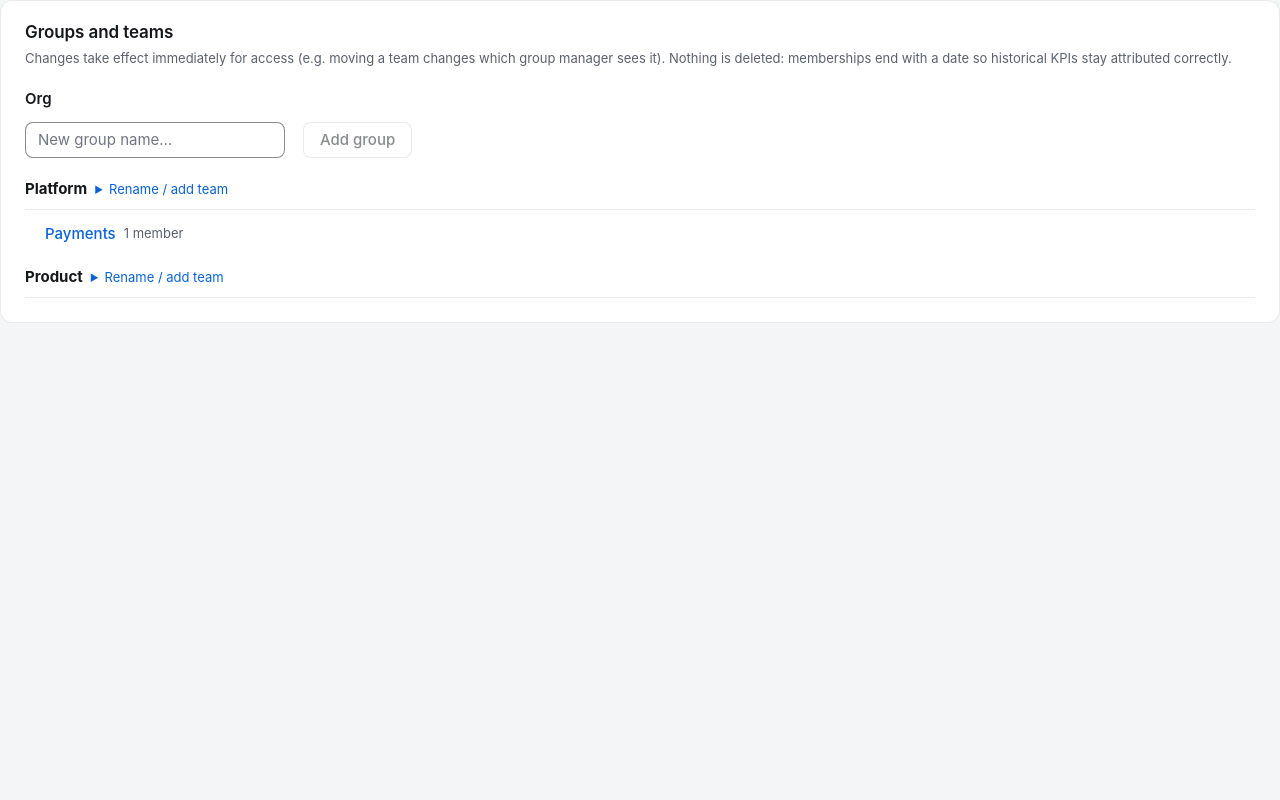
Test: OrganizationTab › shows team members and adds a person with a transfer from a date
Click the button "Payments": (80, 234) [45,219,116,249]
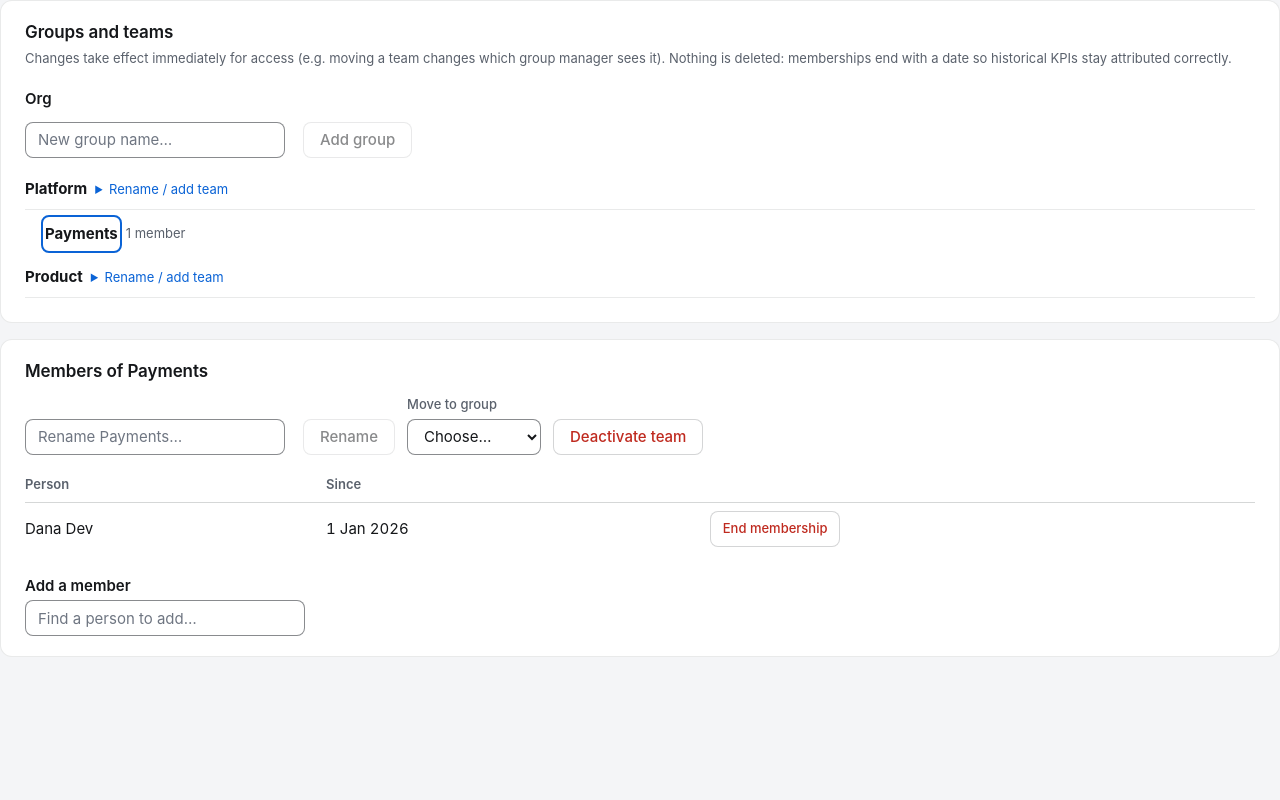
Expected: the text "Dana Dev" is shown, [25,502,314,555]
In the search field labelled "Find a person to add…": (165, 618) [25,600,305,636], type "eli"
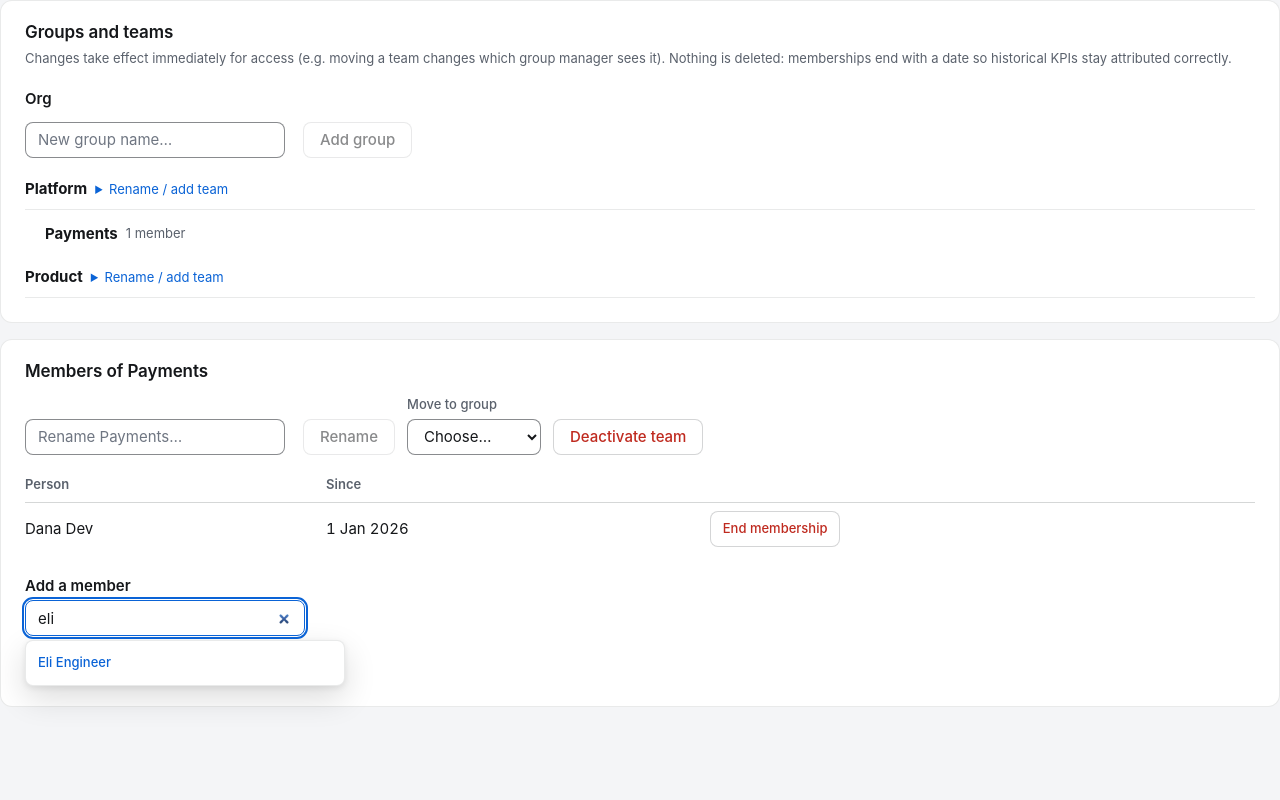
Click the button "Eli Engineer": (74, 663) [38,649,111,676]
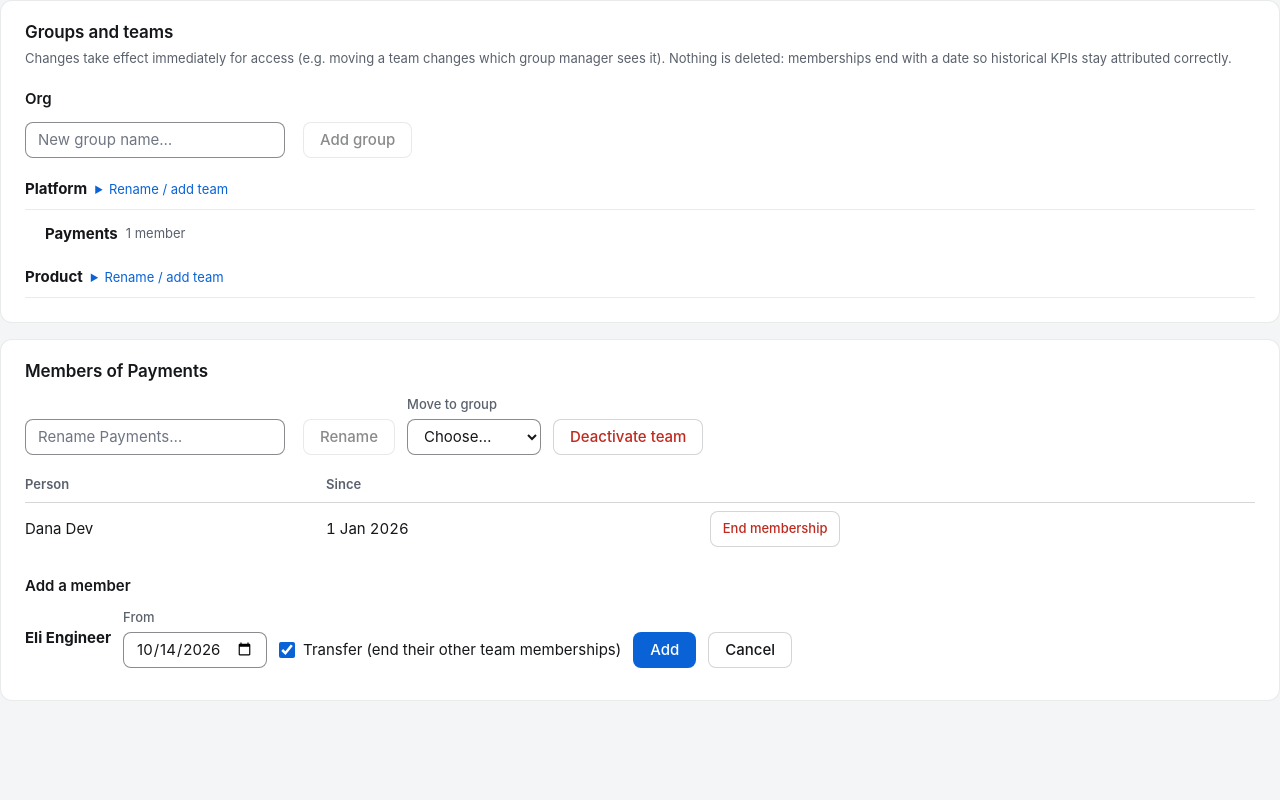
In the date field labelled "From": (195, 650) [123,632,267,668], type "2026-09-01"
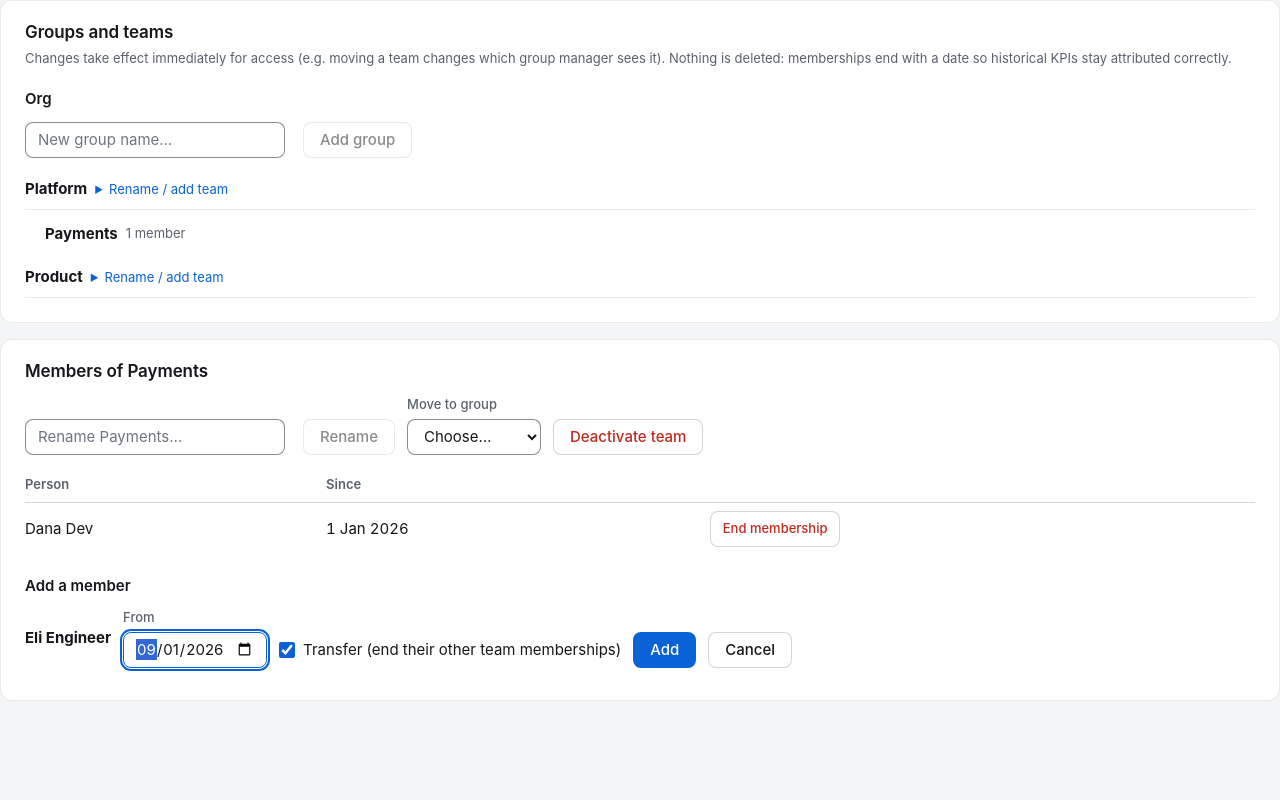
Click the button "Add": (665, 650) [633,632,696,668]
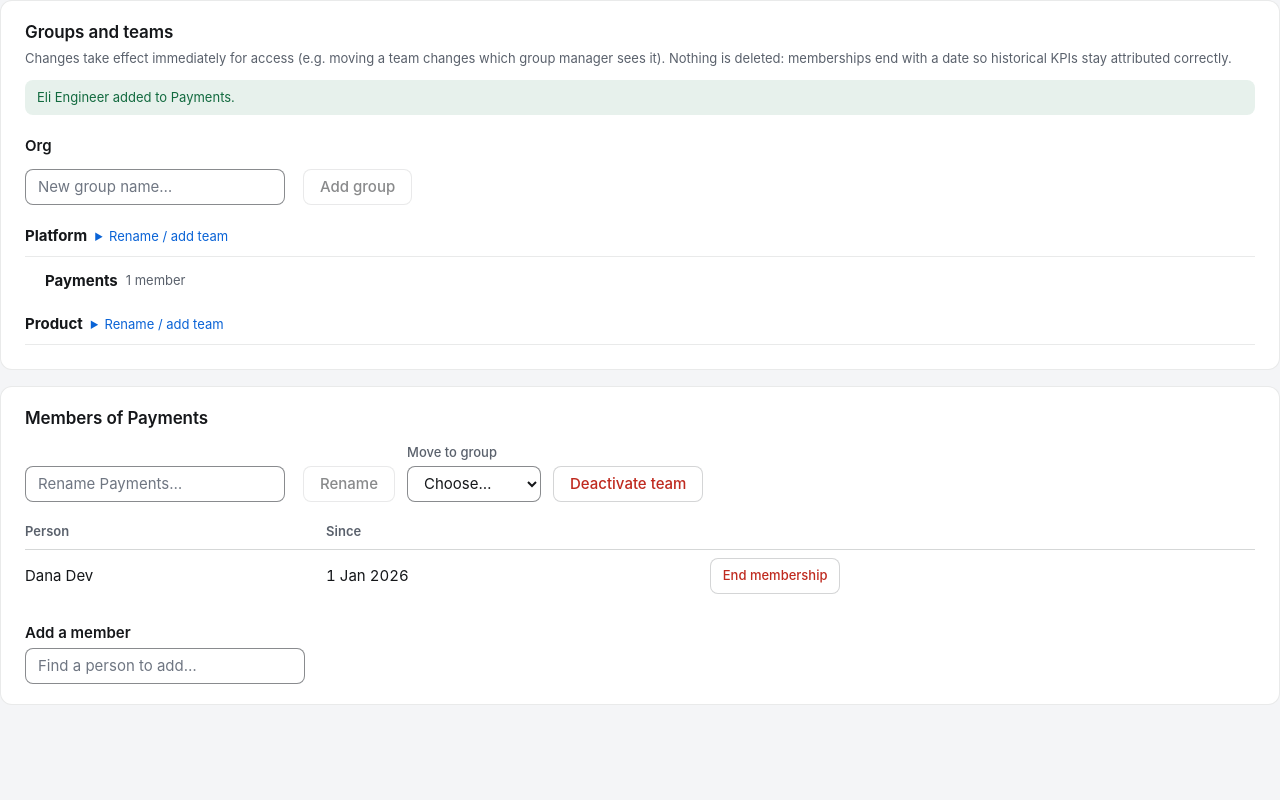
Expected: the text "Eli Engineer added to Payments." is shown, [25,80,1255,115]
